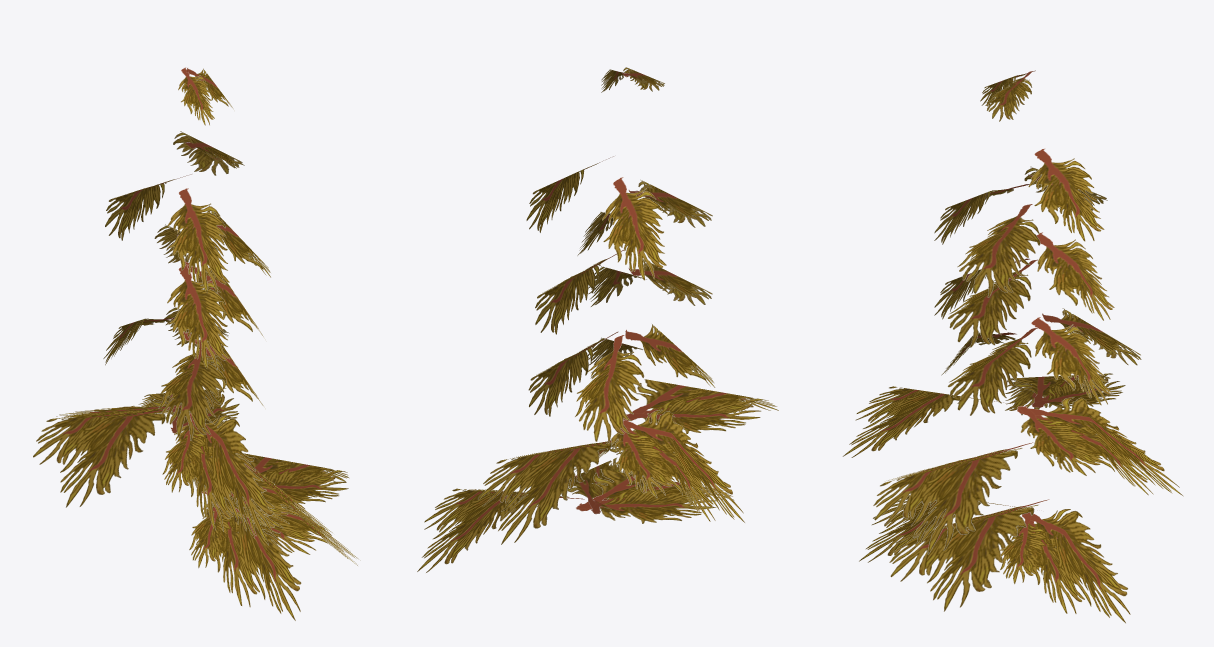
Rendered from Tree_002.fbx.
3 views of the same model, side by side, from view 1: azimuth 30°, elevation 25°; view 2: azimuth 150°, elevation 25°; view 3: azimuth 270°, elevation 25° (orthographic). The views are drawn at different scales.
Parts seen in each view (by area): view 1: polySurface2; view 2: polySurface2; view 3: polySurface2.
Part boxes in pixels (box(x1,y1,x2,y2)): polySurface2: box(33, 67, 360, 620); polySurface2: box(417, 67, 778, 572); polySurface2: box(842, 70, 1183, 623).
Bounding box in the file's own units: 343 × 604 × 356.
